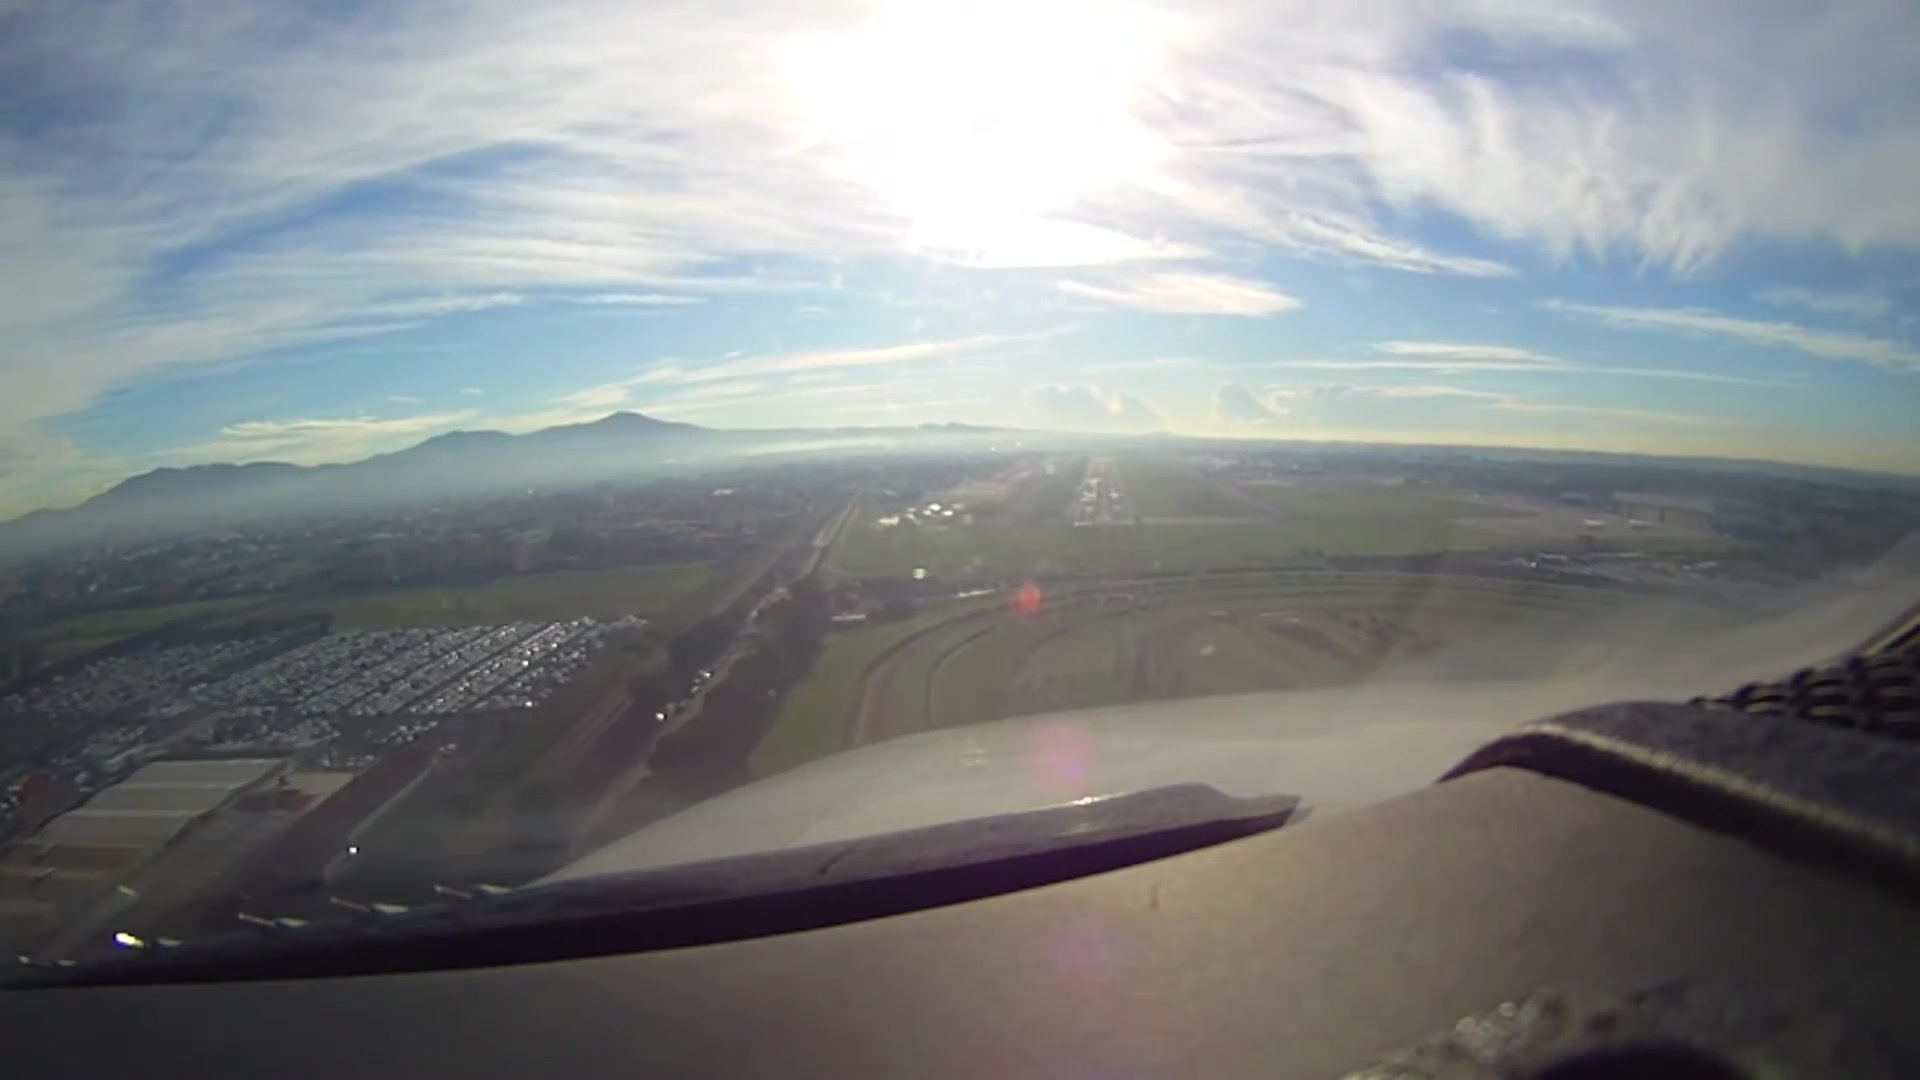runway: (1069, 454, 1135, 529)
